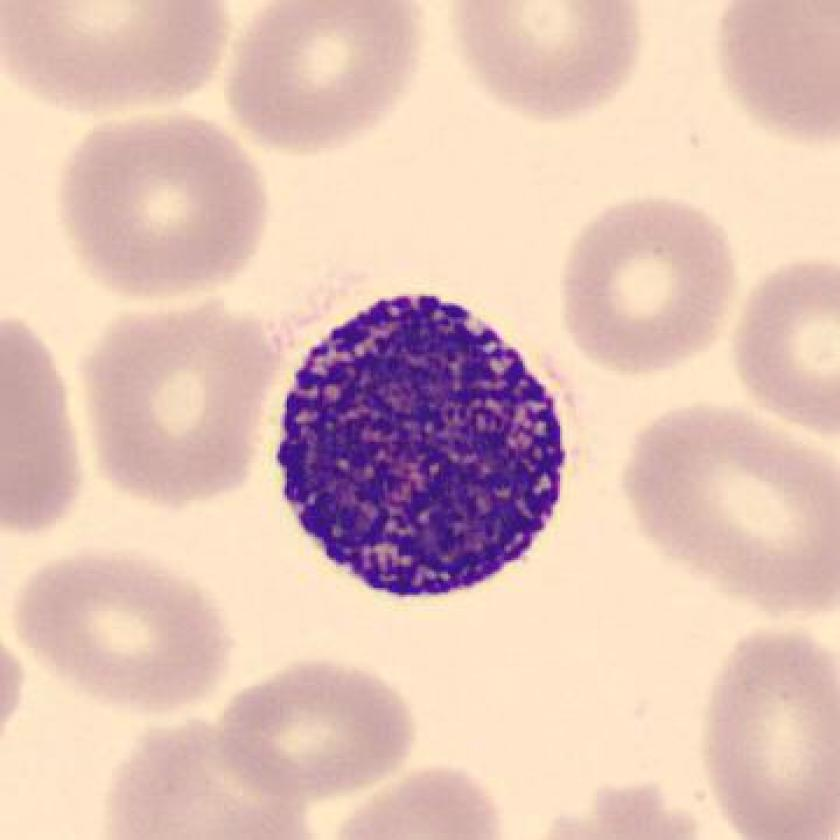basophil: (272, 274, 580, 612)
